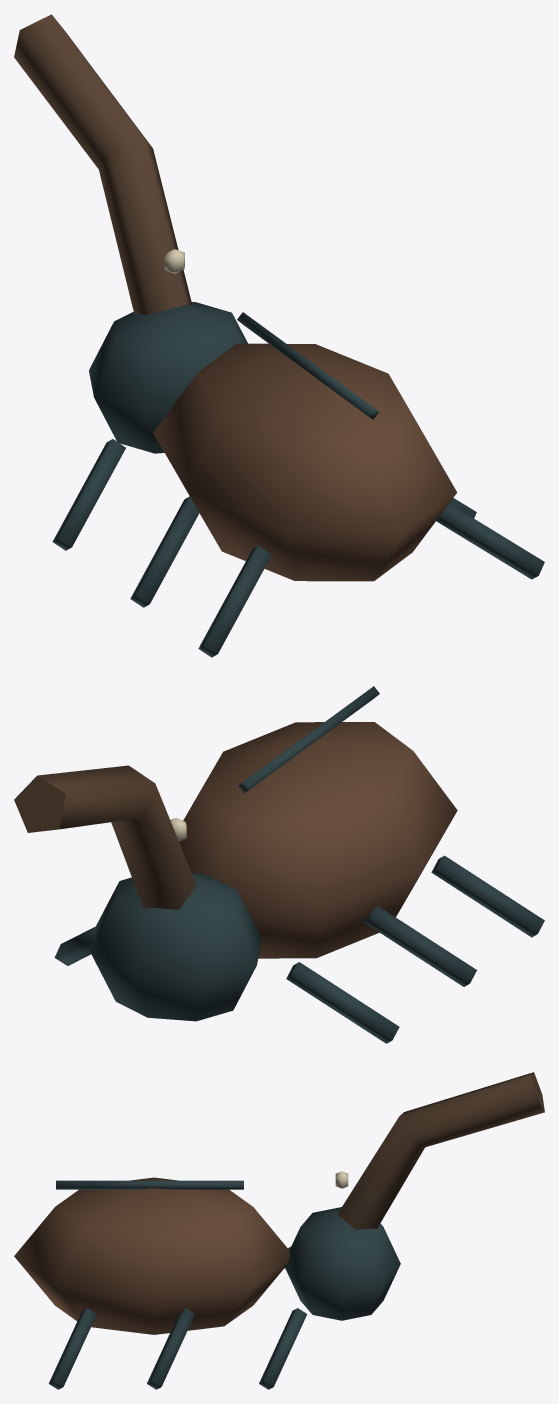
The model's file is insect_rhinoceros_beetle_low.glb.
The picture shows the model from 3 angles, top to bottom: view 1: azimuth 30°, elevation 25°; view 2: azimuth 150°, elevation 25°; view 3: azimuth 270°, elevation 25°; orthographic projection. The views are drawn at different scales.
Bounding box in the file's own units: 0.101 × 0.1027 × 0.1894.
